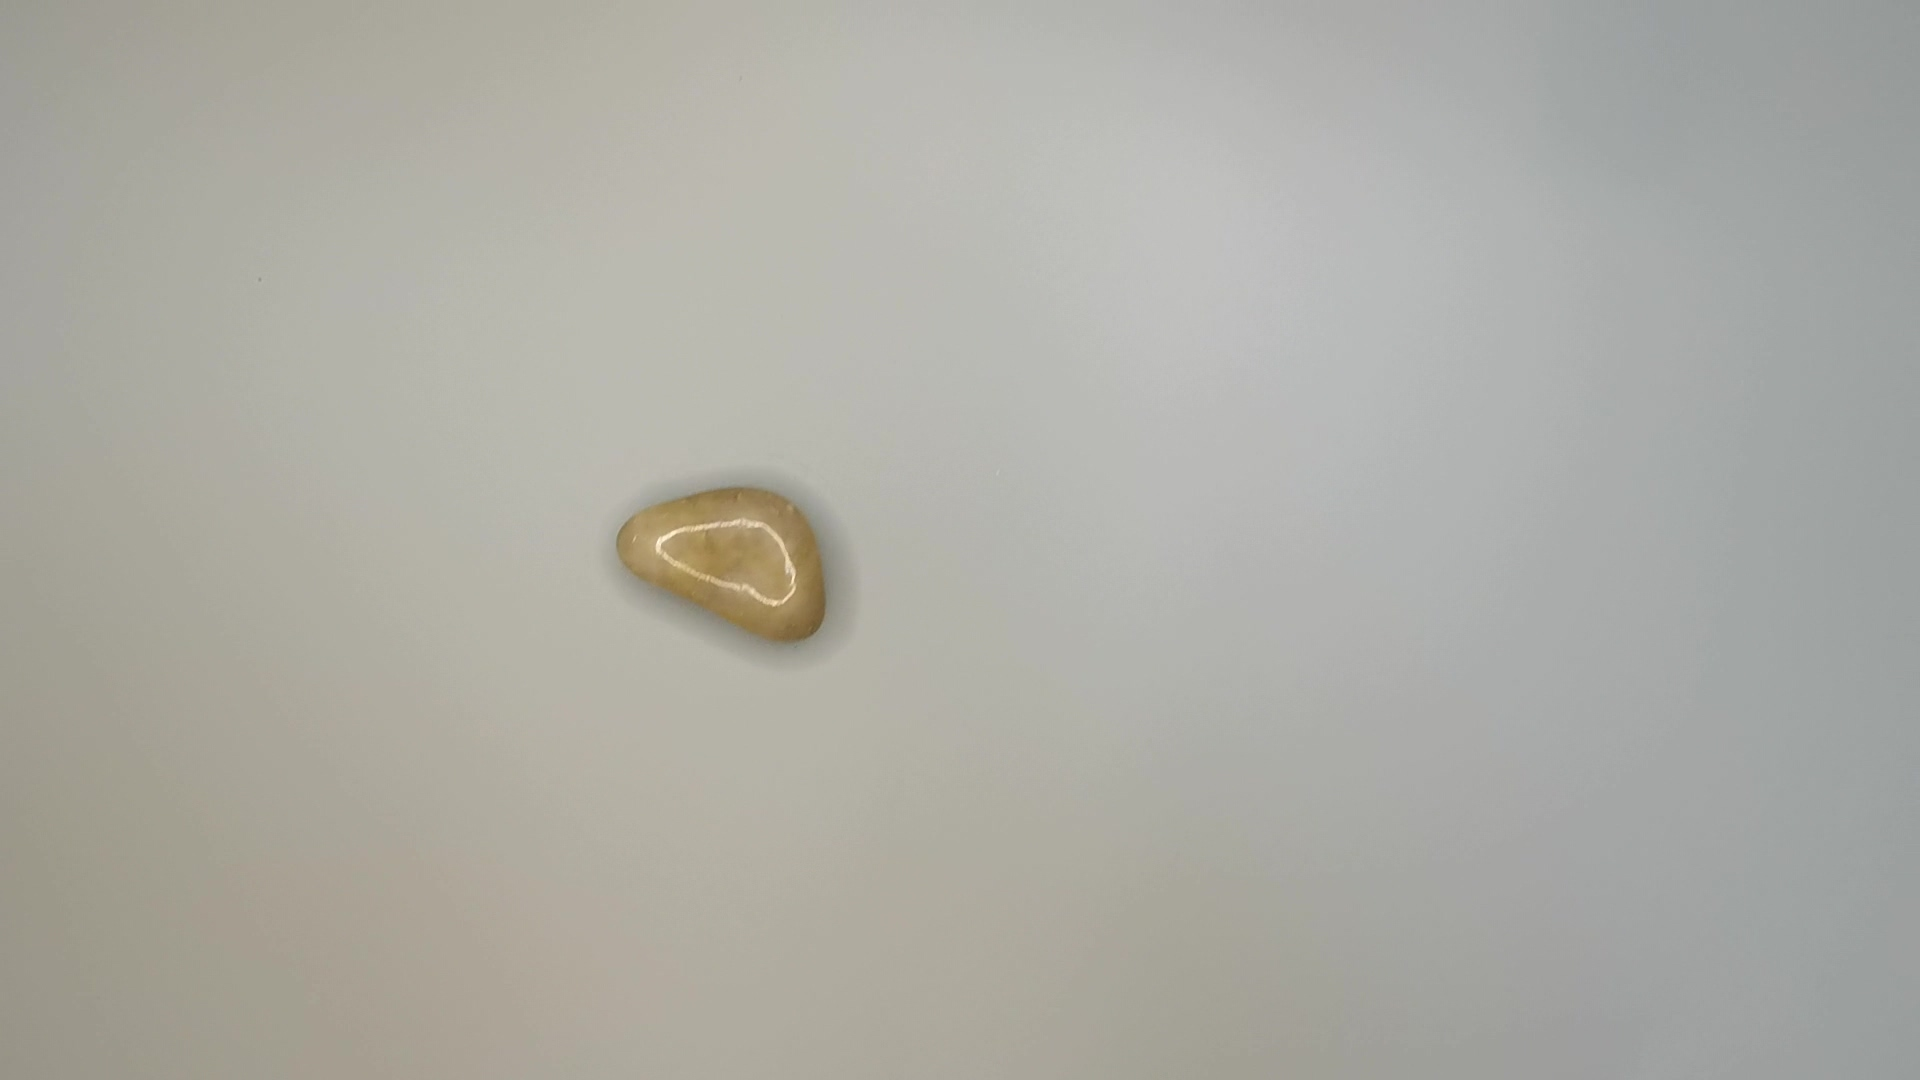ceramic: (611, 477, 836, 650)
